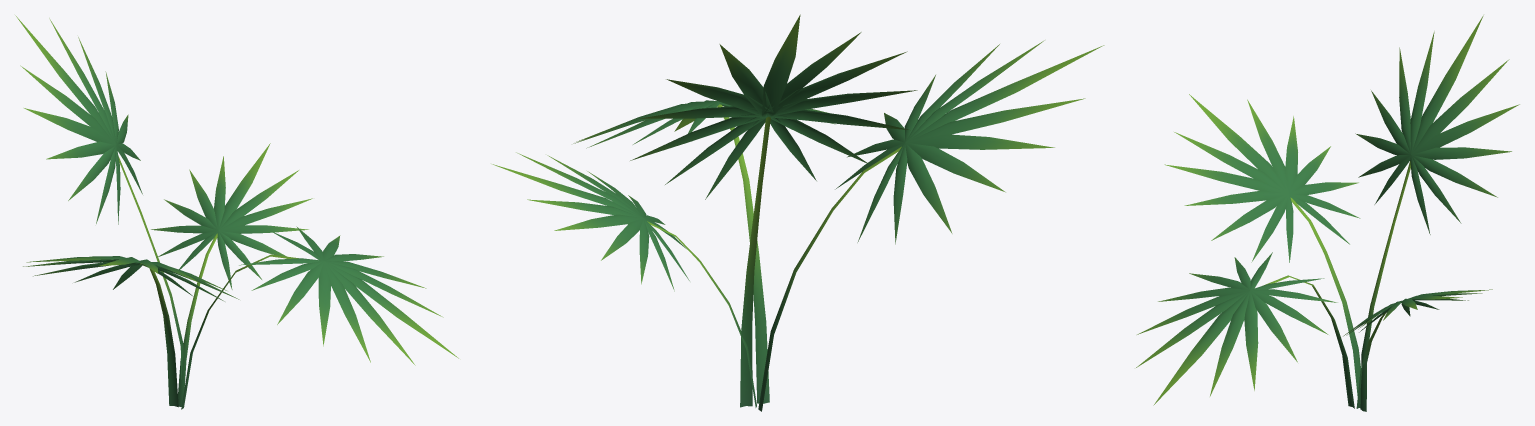
The model's file is plant_09.fbx.
The picture shows the model from 3 angles, left to right: view 1: azimuth 30°, elevation 25°; view 2: azimuth 150°, elevation 25°; view 3: azimuth 270°, elevation 25°; orthographic projection. The views are drawn at different scales.
Parts seen in each view (by area): view 1: plant_09; view 2: plant_09; view 3: plant_09.
Part boxes in pixels (left/top/right/bottom): plant_09: left=15, top=15, right=458, bottom=409; plant_09: left=492, top=14, right=1104, bottom=411; plant_09: left=1136, top=15, right=1519, bottom=411.
Size of the model in its own units: 5.62 by 5.16 by 5.19.
